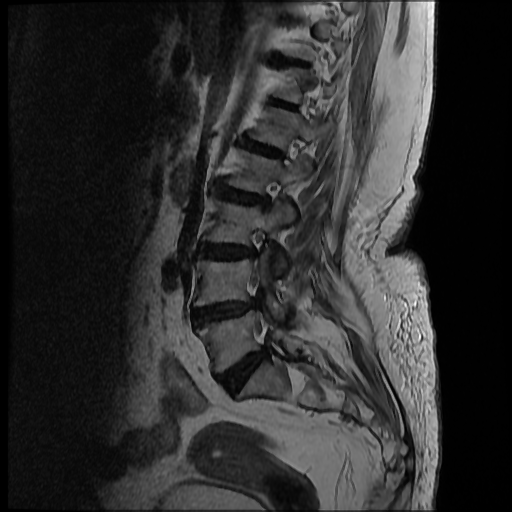RFS0: (248, 165, 295, 210), (266, 126, 314, 164)
